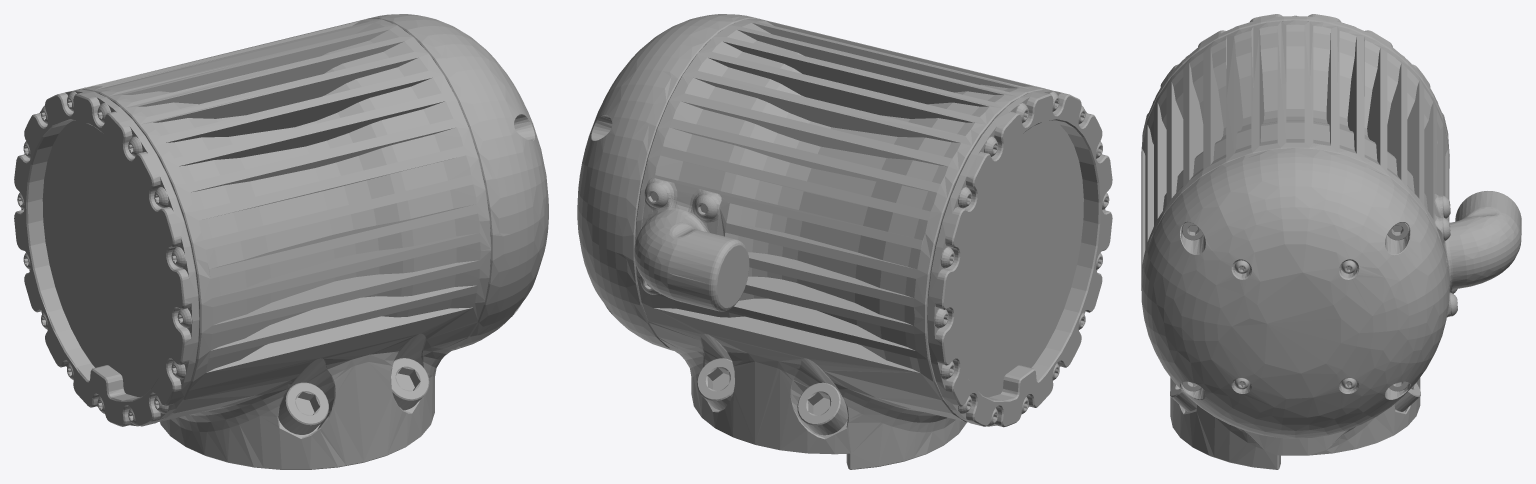
Rendered from hip-yaw-housing.obj.
3 views of the same model, side by side, from view 1: azimuth 30°, elevation 25°; view 2: azimuth 150°, elevation 25°; view 3: azimuth 270°, elevation 25° (orthographic). The views are drawn at different scales.
Visible parts, largest first — view 1: hip-yaw-housing; view 2: hip-yaw-housing; view 3: hip-yaw-housing.
Boxes of the visible parts, box(x1,y1,x2,y2) form: hip-yaw-housing: box(14, 14, 548, 469); hip-yaw-housing: box(577, 14, 1112, 469); hip-yaw-housing: box(1141, 14, 1521, 469).
Bounding box in the file's own units: 0.1018 × 0.0845 × 0.0913.
Materials: 1 (1 with a texture image).
